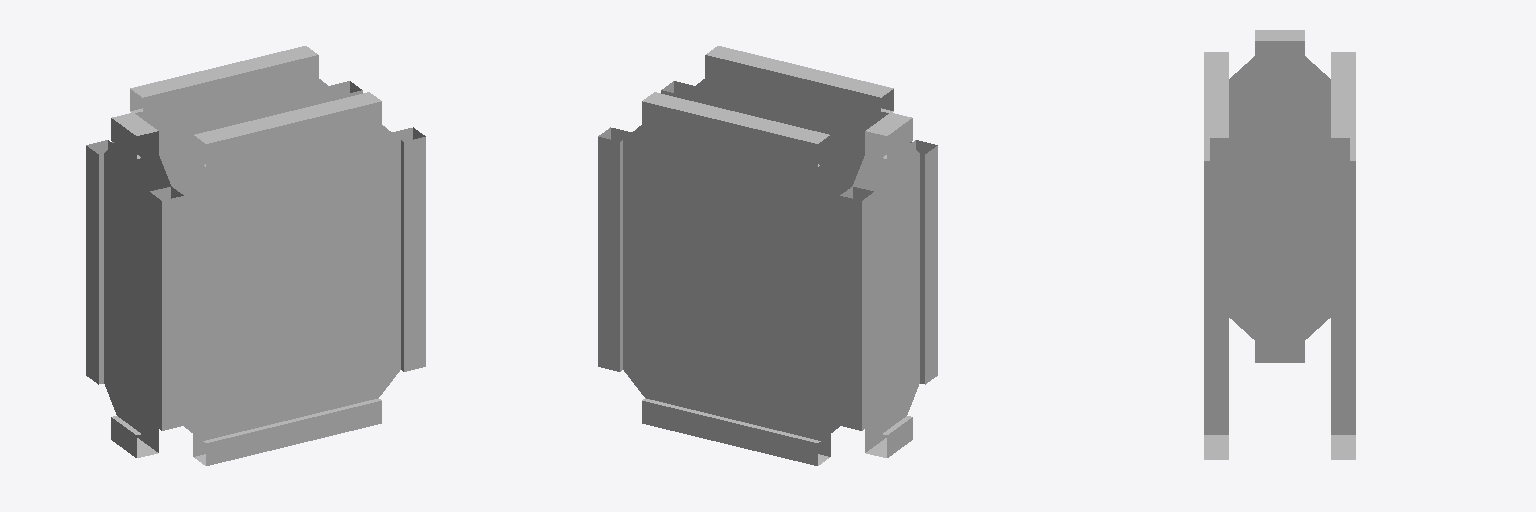
The model's file is grimoire_basic_closed_tint.obj.
3 views of the same model, side by side, from view 1: azimuth 30°, elevation 25°; view 2: azimuth 150°, elevation 25°; view 3: azimuth 270°, elevation 25° (orthographic).
Visible parts, largest first — view 1: COVER_FRONT_VAR2_CLOSED_Cube.016, SPINE_VAR2_CLOSED_Cube.017, COVER_BACK_VAR2_CLOSED_Cube.019; view 2: COVER_BACK_VAR2_CLOSED_Cube.019, SPINE_VAR2_CLOSED_Cube.017, COVER_FRONT_VAR2_CLOSED_Cube.016; view 3: SPINE_VAR2_CLOSED_Cube.017, COVER_FRONT_VAR2_CLOSED_Cube.016, COVER_BACK_VAR2_CLOSED_Cube.019.
Boxes of the visible parts, x1,y1,x2,y2 form: COVER_FRONT_VAR2_CLOSED_Cube.016: [149, 92, 425, 465]; SPINE_VAR2_CLOSED_Cube.017: [86, 113, 183, 457]; COVER_BACK_VAR2_CLOSED_Cube.019: [86, 46, 362, 384]; COVER_BACK_VAR2_CLOSED_Cube.019: [598, 92, 874, 465]; SPINE_VAR2_CLOSED_Cube.017: [840, 113, 924, 457]; COVER_FRONT_VAR2_CLOSED_Cube.016: [661, 46, 937, 384]; SPINE_VAR2_CLOSED_Cube.017: [1204, 30, 1355, 362]; COVER_FRONT_VAR2_CLOSED_Cube.016: [1204, 52, 1228, 459]; COVER_BACK_VAR2_CLOSED_Cube.019: [1331, 52, 1355, 459].
Bounding box in the file's own units: 0.75 × 0.875 × 0.375.